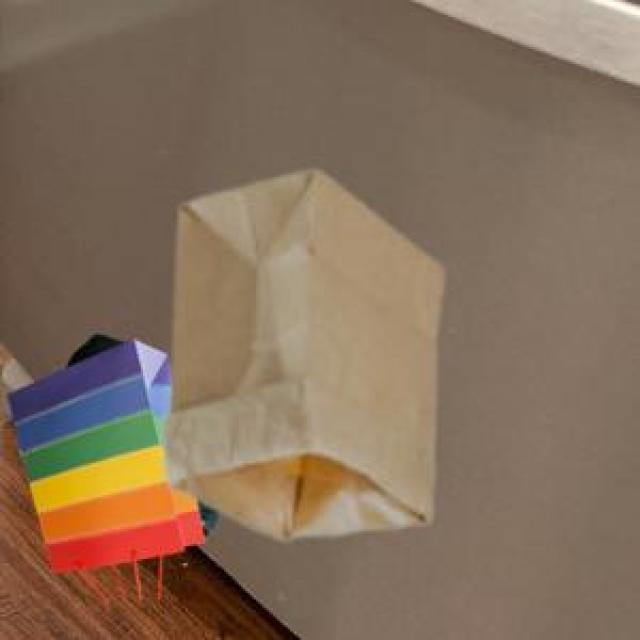miscellaneous trash: (64, 331, 216, 531)
paper: (160, 166, 440, 536), (2, 335, 201, 576)
